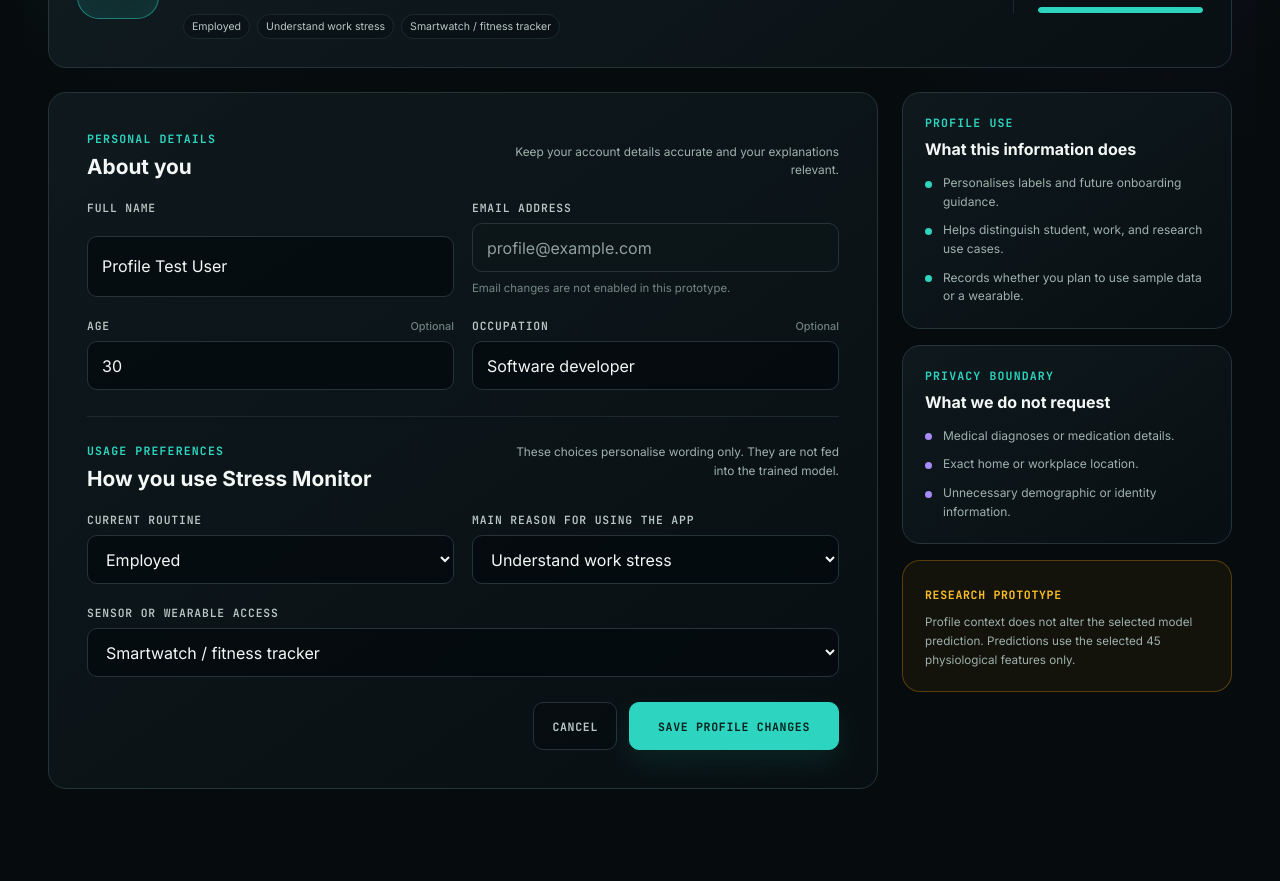
Test: ProfilePage › displays an API profile update error
The image size is (1280, 881).
(page scrolled)
Click the button "Save profile changes" at (734, 726), box [629,702,839,750]
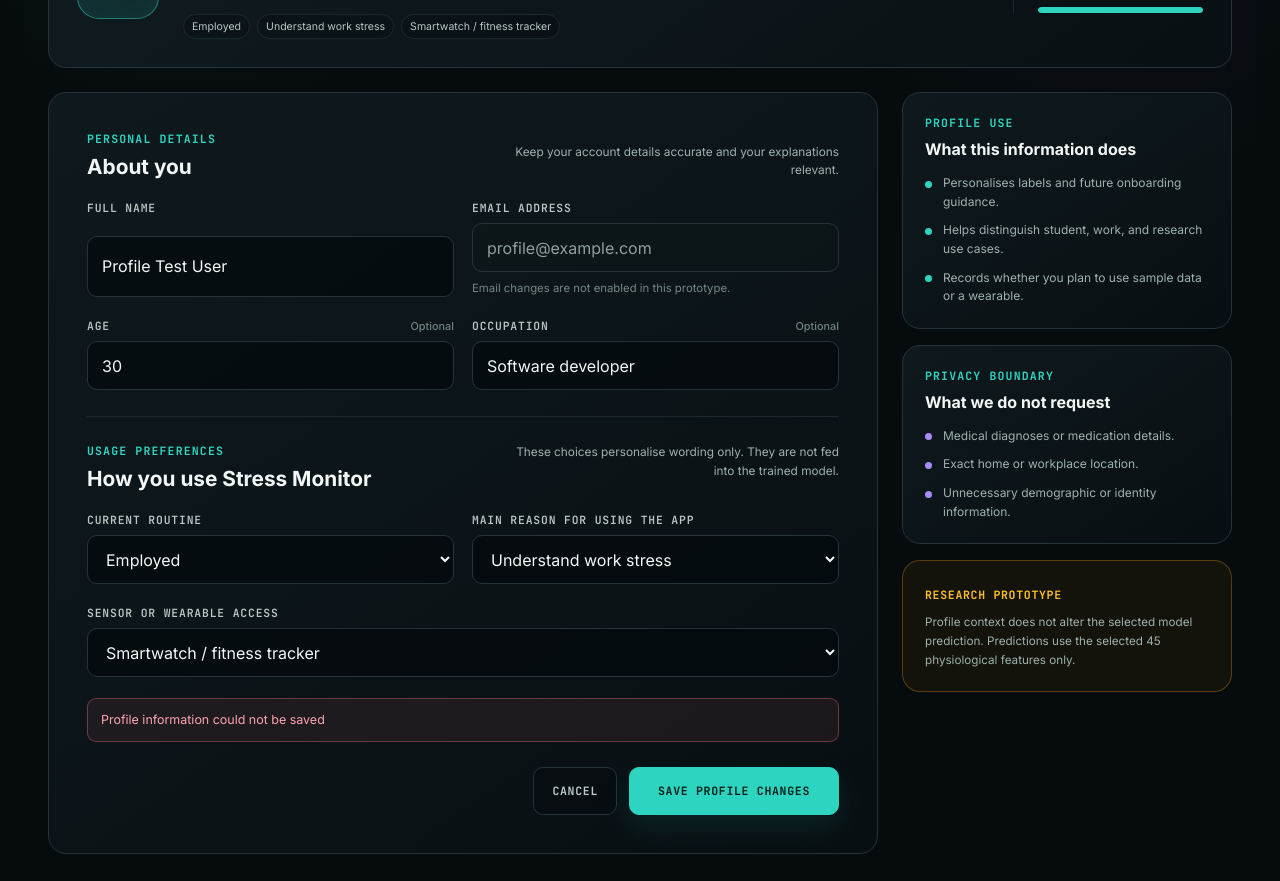
expect the message reads "Profile information could not be saved": met, box [101,712,325,727]
